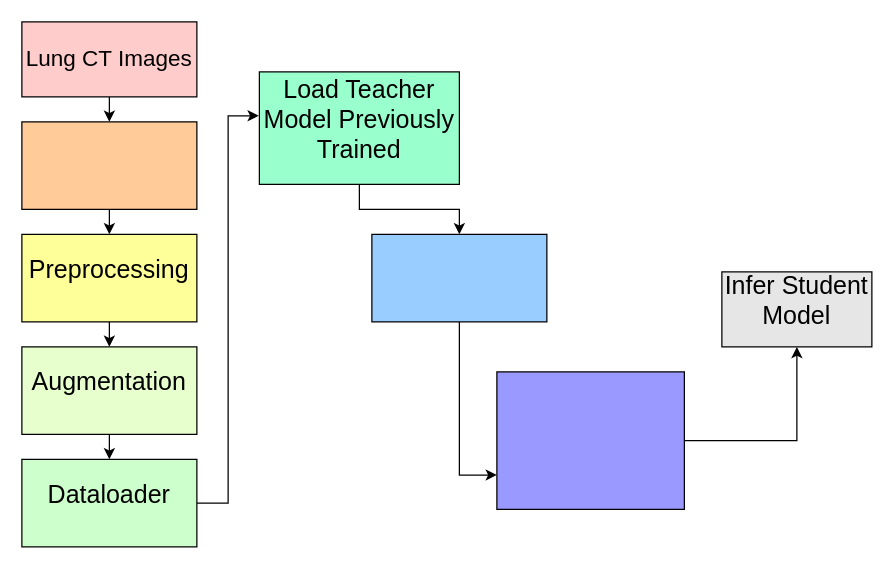
The diagram is 894 pixels wide and 569 high, and some of its shapes have lost their labels. The shapes that lost their labels are listed below. From the top down, each one's centre as x and y in pixels, then its label:
the point at 109,165: Custom Dataset
the point at 459,277: Train Student Model
the point at 590,440: Evaluate Student Model
